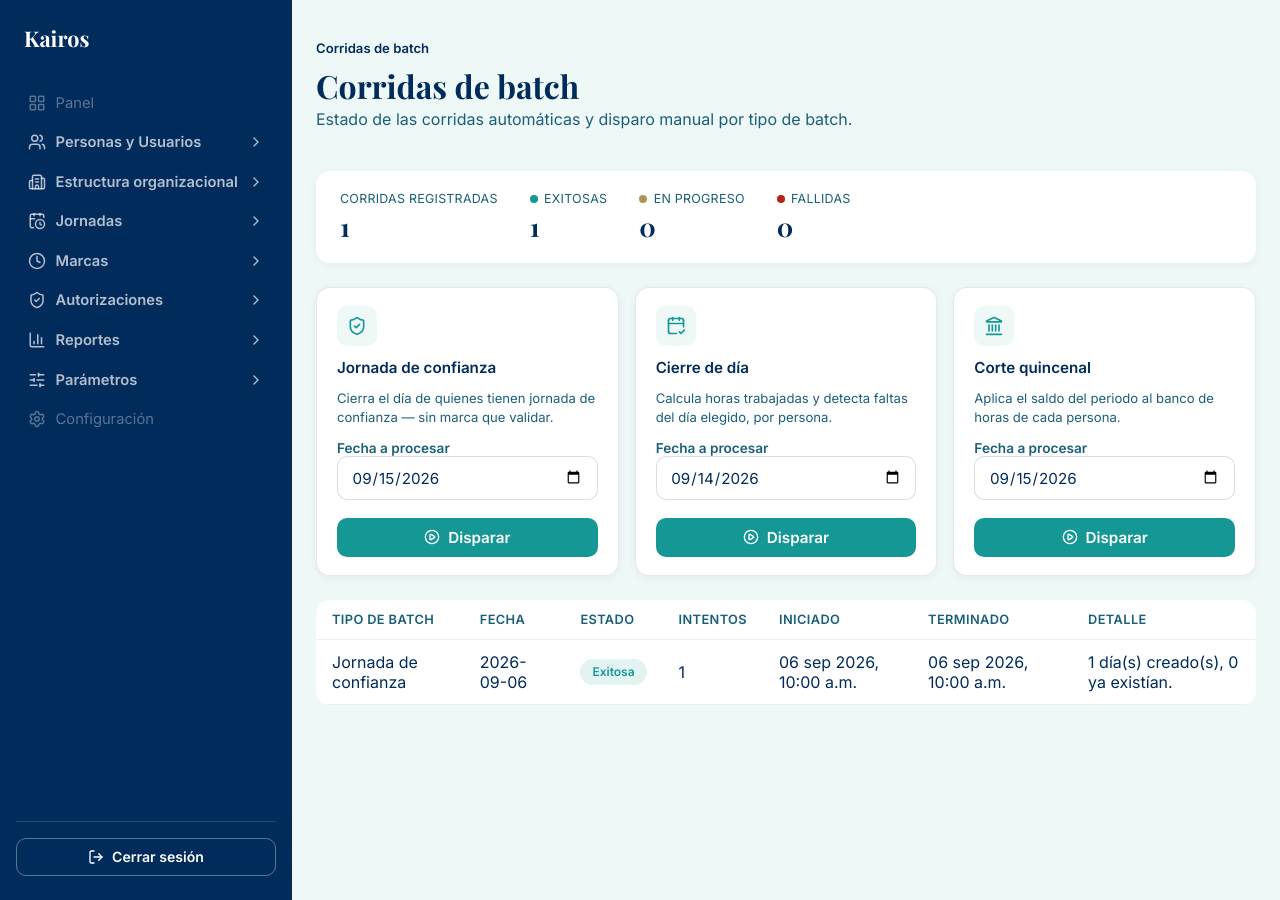
Test: PanelCorridasBatchPage › muestra un error legible cuando el backend rechaza el disparo manual
The image size is (1280, 900).
Expected: the text "Jornada de confianza" is shown, [316,639,464,704]
Click the button with aria-label "disparar jornada de confianza". click: coordinates (467, 537)
box: [337,518,598,557]
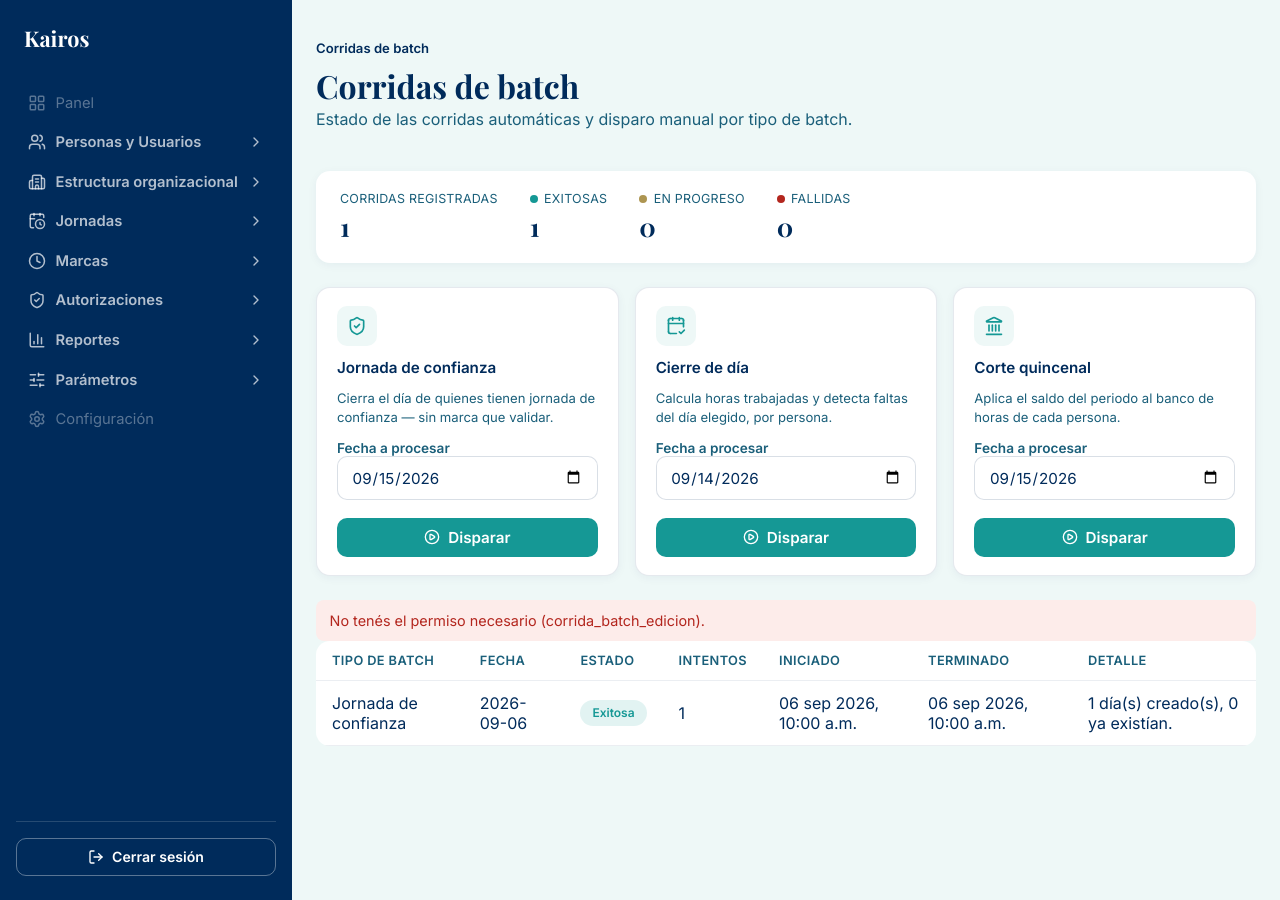
Now the text "No tenés el permiso necesario (corrida_batch_edicion)." is shown, box [316,600,1256,641]
